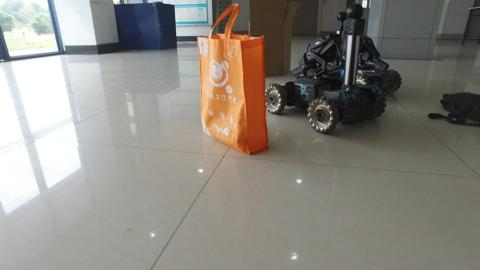bag: (197, 9, 272, 157)
chariot: (264, 7, 390, 131)
